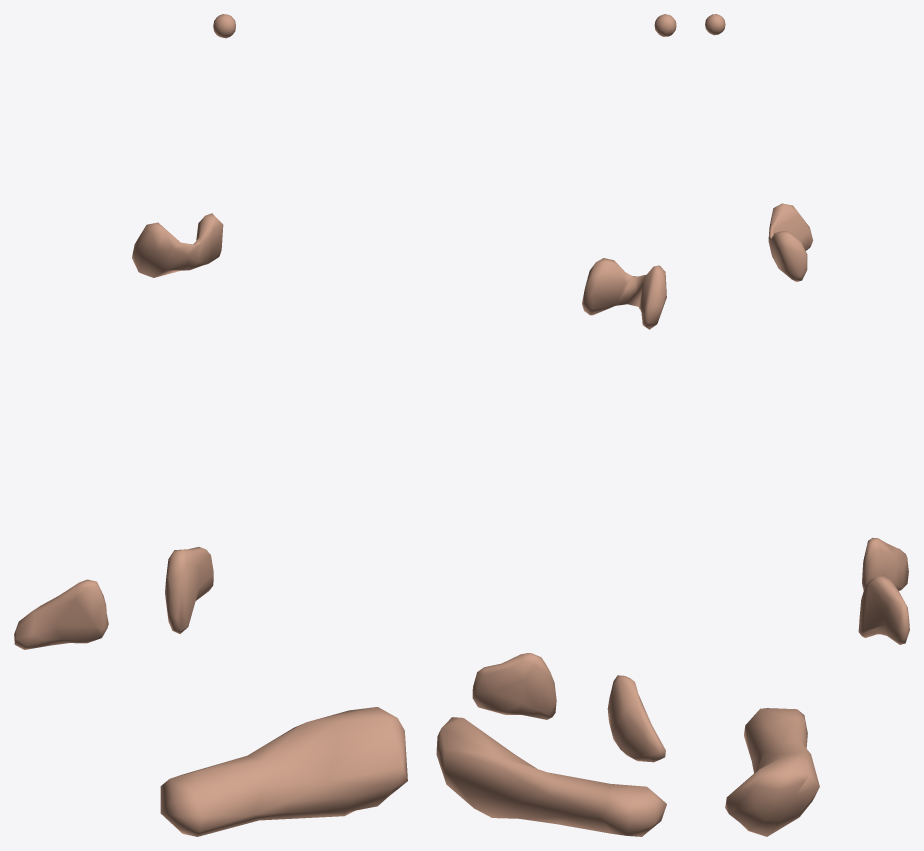
Rendered from pediatric_infant_male.endocrine.LOD2.glb.
3 renders of one model, left to right at view 1: azimuth 30°, elevation 25°; view 2: azimuth 150°, elevation 25°; view 3: azimuth 270°, elevation 25°, orthographic. The views are drawn at different scales.
Parts seen in each view (by area): view 1: PEDIATRIC.INFANT.MALE.ENDOCRINE.PANCREAS, PEDIATRIC.INFANT.MALE.ENDOCRINE.ADRENAL.R, PEDIATRIC.INFANT.MALE.ENDOCRINE.THYROID, PEDIATRIC.INFANT.MALE.ENDOCRINE.ADRENAL.L; view 2: PEDIATRIC.INFANT.MALE.ENDOCRINE.PANCREAS, PEDIATRIC.INFANT.MALE.ENDOCRINE.ADRENAL.L, PEDIATRIC.INFANT.MALE.ENDOCRINE.THYROID, PEDIATRIC.INFANT.MALE.ENDOCRINE.ADRENAL.R; view 3: PEDIATRIC.INFANT.MALE.ENDOCRINE.PANCREAS, PEDIATRIC.INFANT.MALE.ENDOCRINE.ADRENAL.L, PEDIATRIC.INFANT.MALE.ENDOCRINE.THYROID, PEDIATRIC.INFANT.MALE.ENDOCRINE.ADRENAL.R.
Part boxes in pixels (x1=…): PEDIATRIC.INFANT.MALE.ENDOCRINE.PANCREAS: x1=160, y1=707, x2=407, y2=836; PEDIATRIC.INFANT.MALE.ENDOCRINE.ADRENAL.R: x1=14, y1=579, x2=108, y2=649; PEDIATRIC.INFANT.MALE.ENDOCRINE.THYROID: x1=132, y1=213, x2=223, y2=277; PEDIATRIC.INFANT.MALE.ENDOCRINE.ADRENAL.L: x1=165, y1=547, x2=213, y2=633; PEDIATRIC.INFANT.MALE.ENDOCRINE.PANCREAS: x1=436, y1=717, x2=666, y2=836; PEDIATRIC.INFANT.MALE.ENDOCRINE.ADRENAL.L: x1=472, y1=653, x2=556, y2=719; PEDIATRIC.INFANT.MALE.ENDOCRINE.THYROID: x1=582, y1=258, x2=666, y2=329; PEDIATRIC.INFANT.MALE.ENDOCRINE.ADRENAL.R: x1=607, y1=675, x2=665, y2=762; PEDIATRIC.INFANT.MALE.ENDOCRINE.PANCREAS: x1=725, y1=708, x2=819, y2=836; PEDIATRIC.INFANT.MALE.ENDOCRINE.ADRENAL.L: x1=858, y1=576, x2=909, y2=644; PEDIATRIC.INFANT.MALE.ENDOCRINE.THYROID: x1=768, y1=203, x2=813, y2=281; PEDIATRIC.INFANT.MALE.ENDOCRINE.ADRENAL.R: x1=862, y1=538, x2=908, y2=590.
Bounding box in the file's own units: 0.1013 × 0.2684 × 0.0664.
